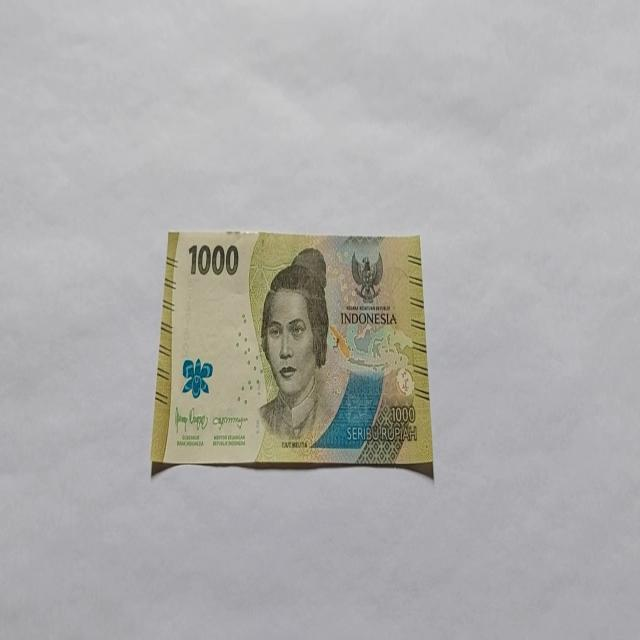seribu rupiah kertas: (150, 228, 433, 478)
